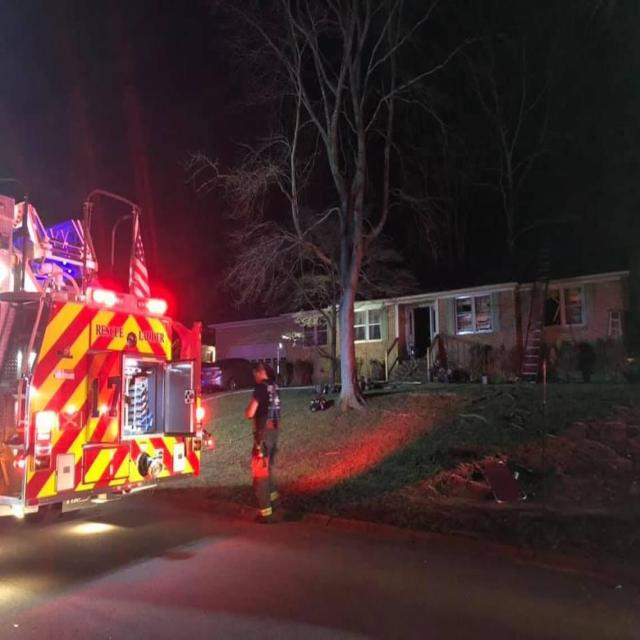other: (0, 256, 45, 305), (135, 280, 178, 322), (87, 273, 126, 316), (30, 400, 66, 440)
